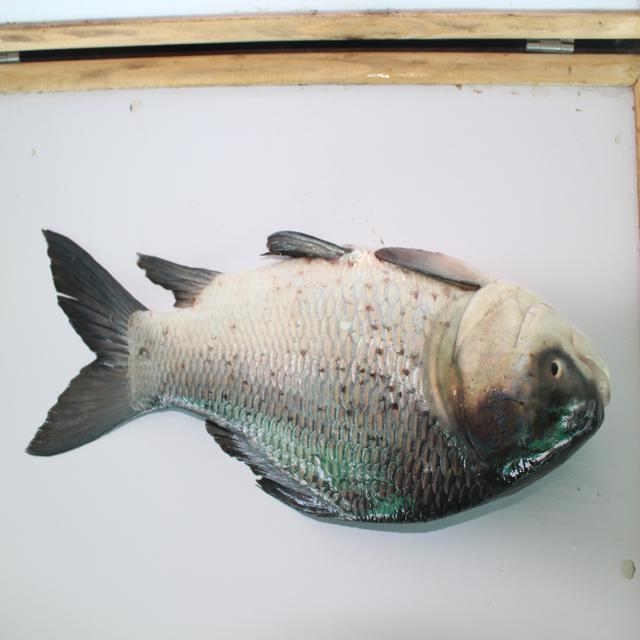Catla: (28, 213, 614, 545)
